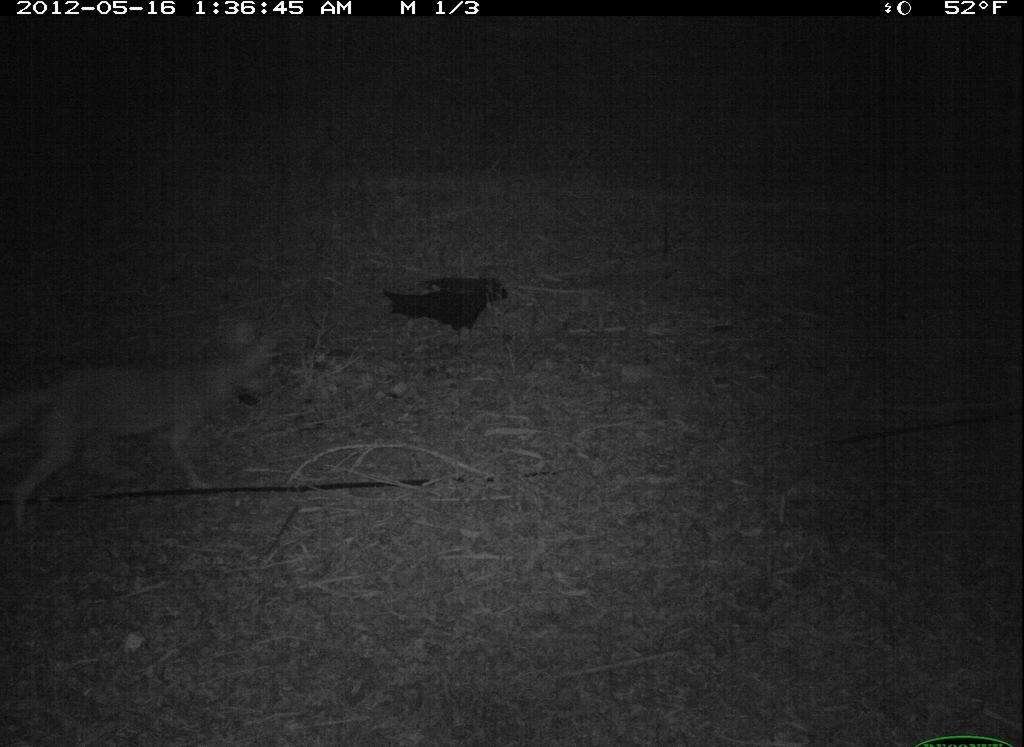coyote: (1, 315, 291, 525)
